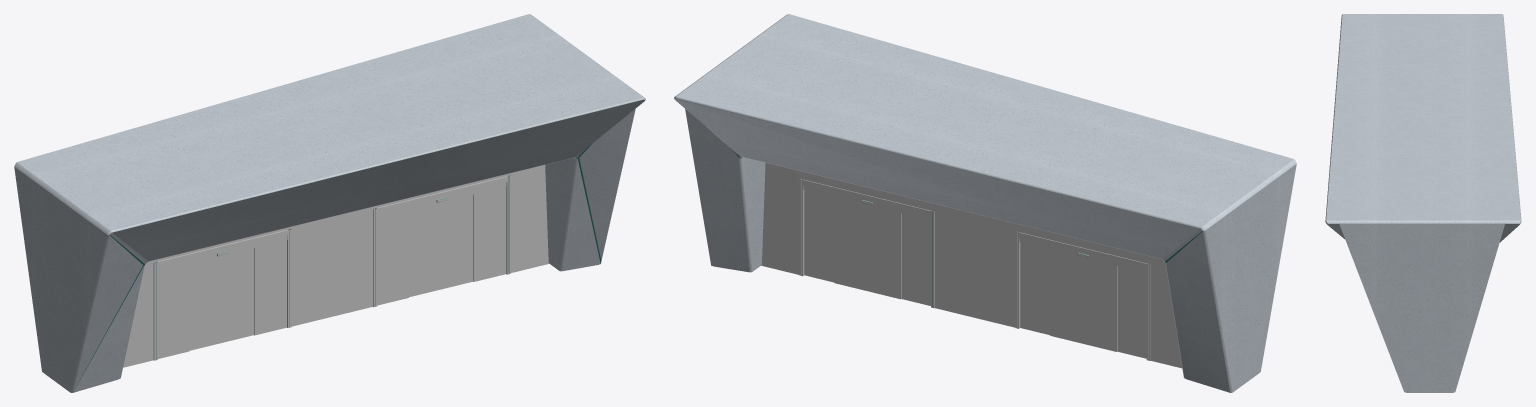
3 views of the same model, side by side, from view 1: azimuth 30°, elevation 25°; view 2: azimuth 150°, elevation 25°; view 3: azimuth 270°, elevation 25° (orthographic). The views are drawn at different scales.
Visible parts, largest first — view 1: M_W_006_c_22x8, M_W_006_c_22x8_window, M_W_006_c_22x8_door_d, M_W_006_c_22x8_door_c, M_W_006_c_22x8_door_a, M_W_006_c_22x8_door_b; view 2: M_W_006_c_22x8, M_W_006_c_22x8_window, M_W_006_c_22x8_door_b, M_W_006_c_22x8_door_d, M_W_006_c_22x8_door_a, M_W_006_c_22x8_door_c; view 3: M_W_006_c_22x8.
Part boxes in pixels (x1=…): M_W_006_c_22x8: x1=14, y1=14, x2=645, y2=392; M_W_006_c_22x8_window: x1=123, y1=165, x2=548, y2=365; M_W_006_c_22x8_door_d: x1=189, y1=256, x2=221, y2=350; M_W_006_c_22x8_door_c: x1=221, y1=248, x2=253, y2=342; M_W_006_c_22x8_door_a: x1=441, y1=195, x2=473, y2=289; M_W_006_c_22x8_door_b: x1=409, y1=202, x2=440, y2=297; M_W_006_c_22x8: x1=674, y1=14, x2=1296, y2=392; M_W_006_c_22x8_window: x1=762, y1=163, x2=1181, y2=366; M_W_006_c_22x8_door_b: x1=867, y1=205, x2=901, y2=299; M_W_006_c_22x8_door_d: x1=1083, y1=258, x2=1117, y2=351; M_W_006_c_22x8_door_a: x1=834, y1=197, x2=867, y2=290; M_W_006_c_22x8_door_c: x1=1050, y1=250, x2=1083, y2=343; M_W_006_c_22x8: x1=1325, y1=14, x2=1521, y2=392.
Size of the model in its own units: 22 by 8.02 by 8.3.
